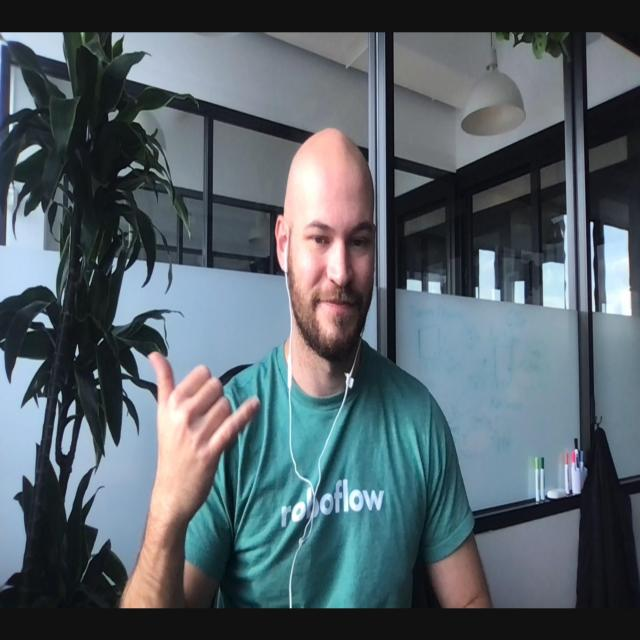face: (286, 159, 375, 357)
